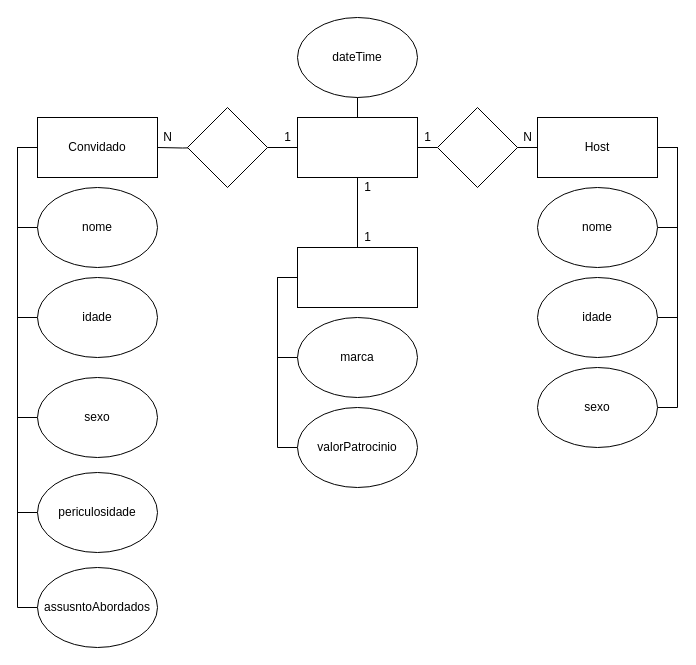
The diagram is 696 pixels wide and 665 high, and some of its shapes have lost their labels. The shapes that lost their labels are listed below. From the top down, each one's box as (x1, y1, x2, y2) in pixels, then its label:
(186, 106, 268, 188): Participa
(296, 116, 418, 178): Programa
(436, 106, 518, 188): Apresenta
(296, 246, 418, 308): Patrocinador
